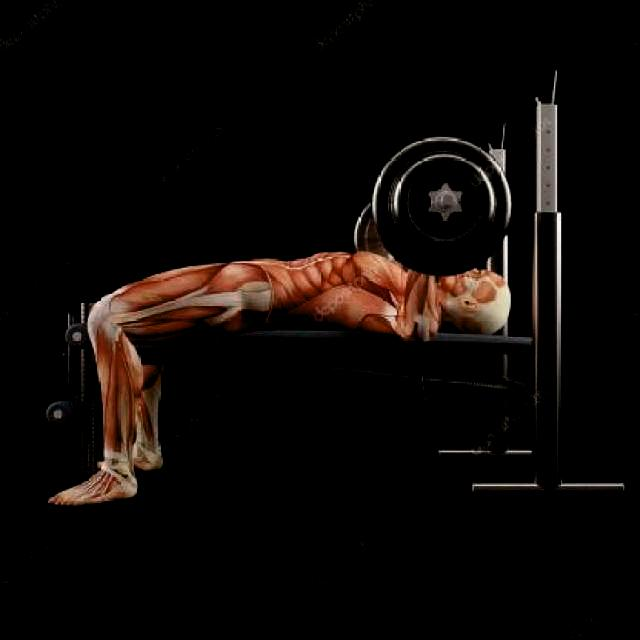barbell: (362, 121, 525, 282)
